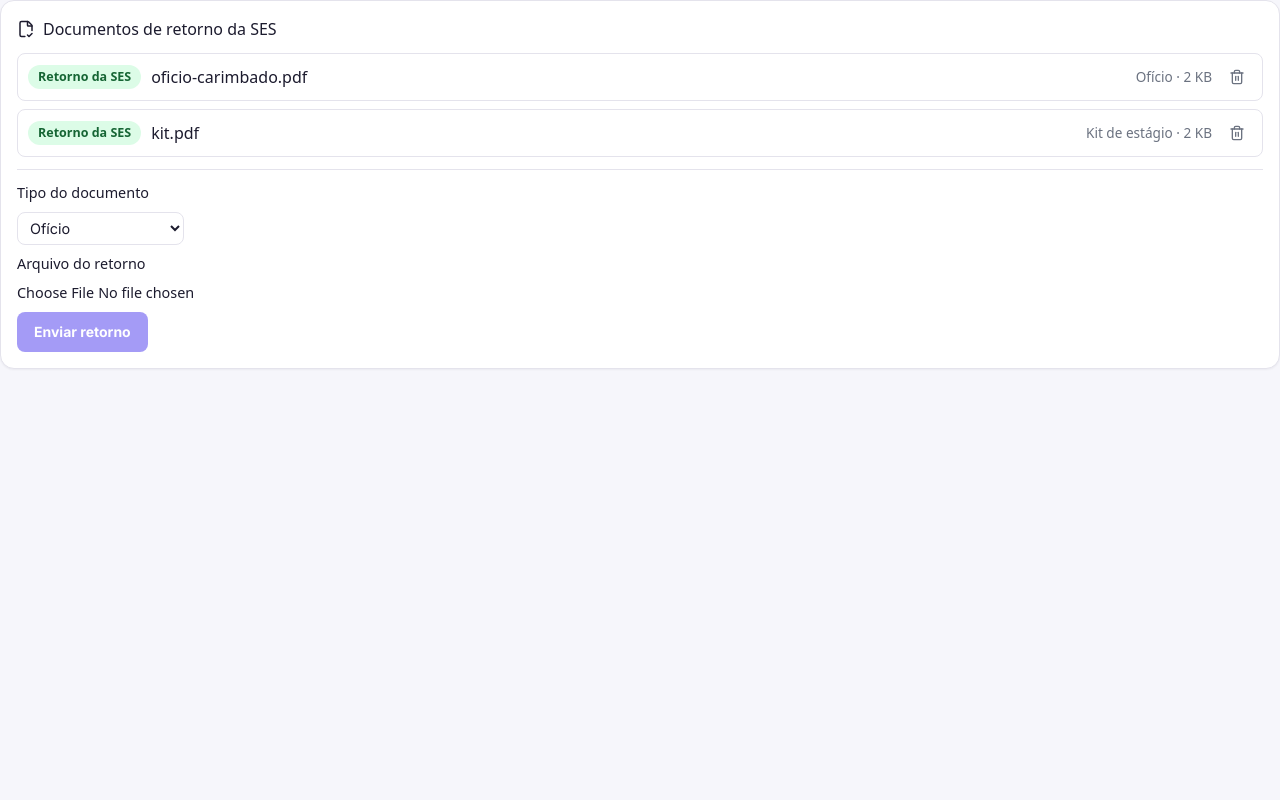
Test: RetornoSES › 409 na exclusão mostra mensagem amigável
Click the button named "Excluir kit.pdf". click: (1237,133)
box: [1222, 118, 1252, 148]
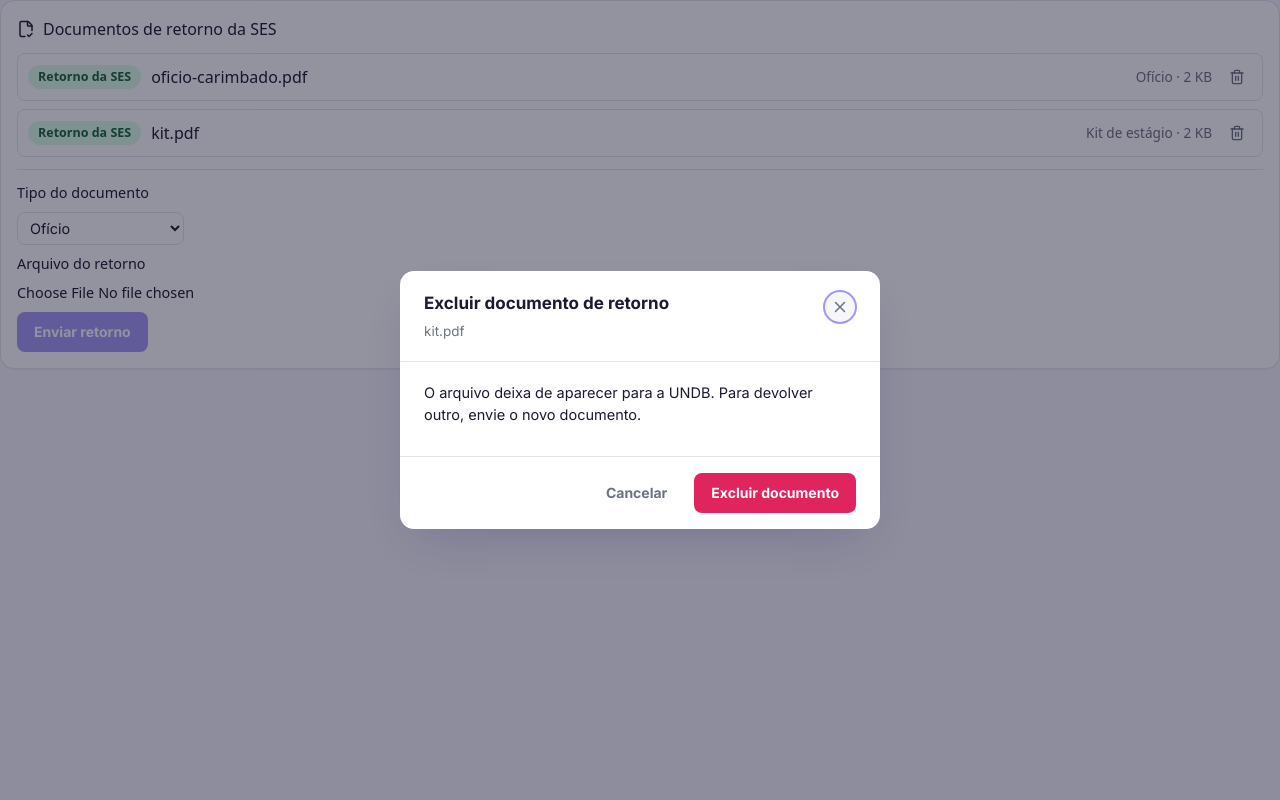
Click the button "Excluir documento". click: (775,493)
box: [694, 473, 856, 513]
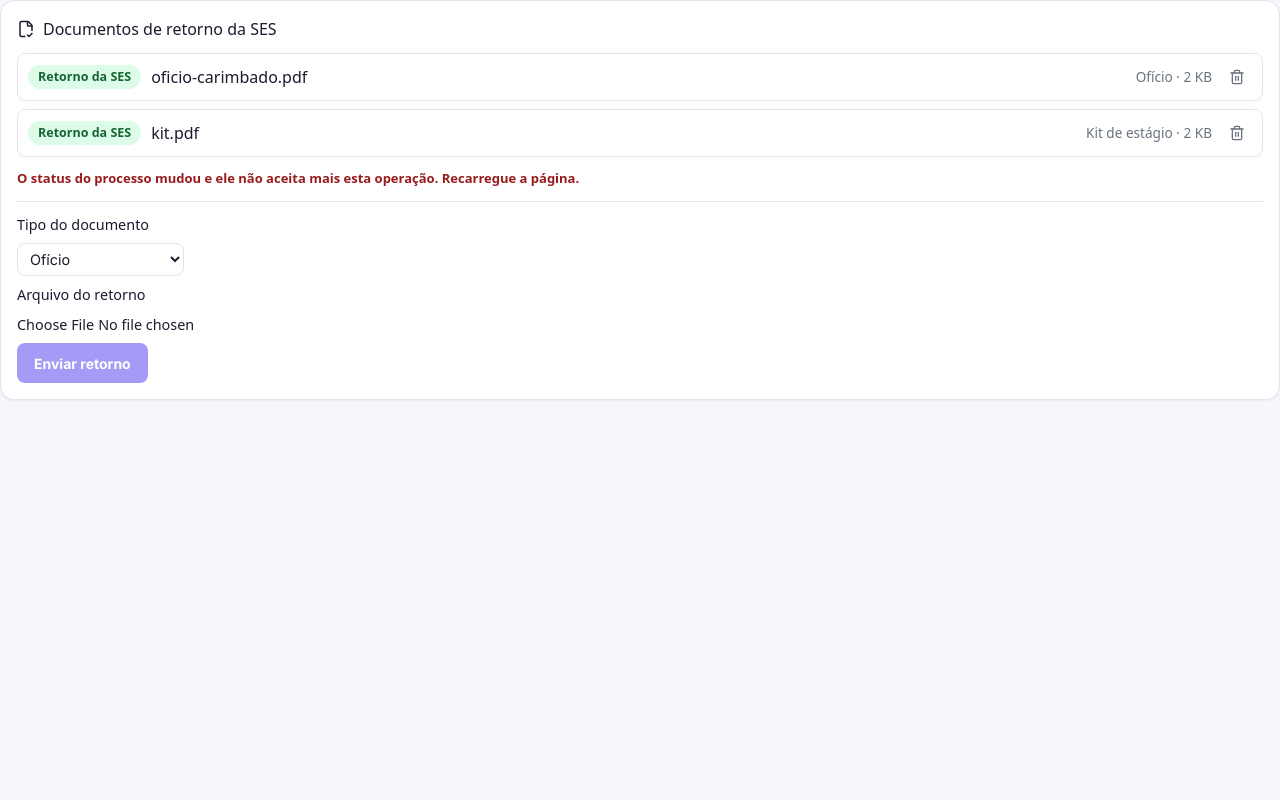
Now the message shows "status do processo mudou", box [17, 169, 579, 187]
